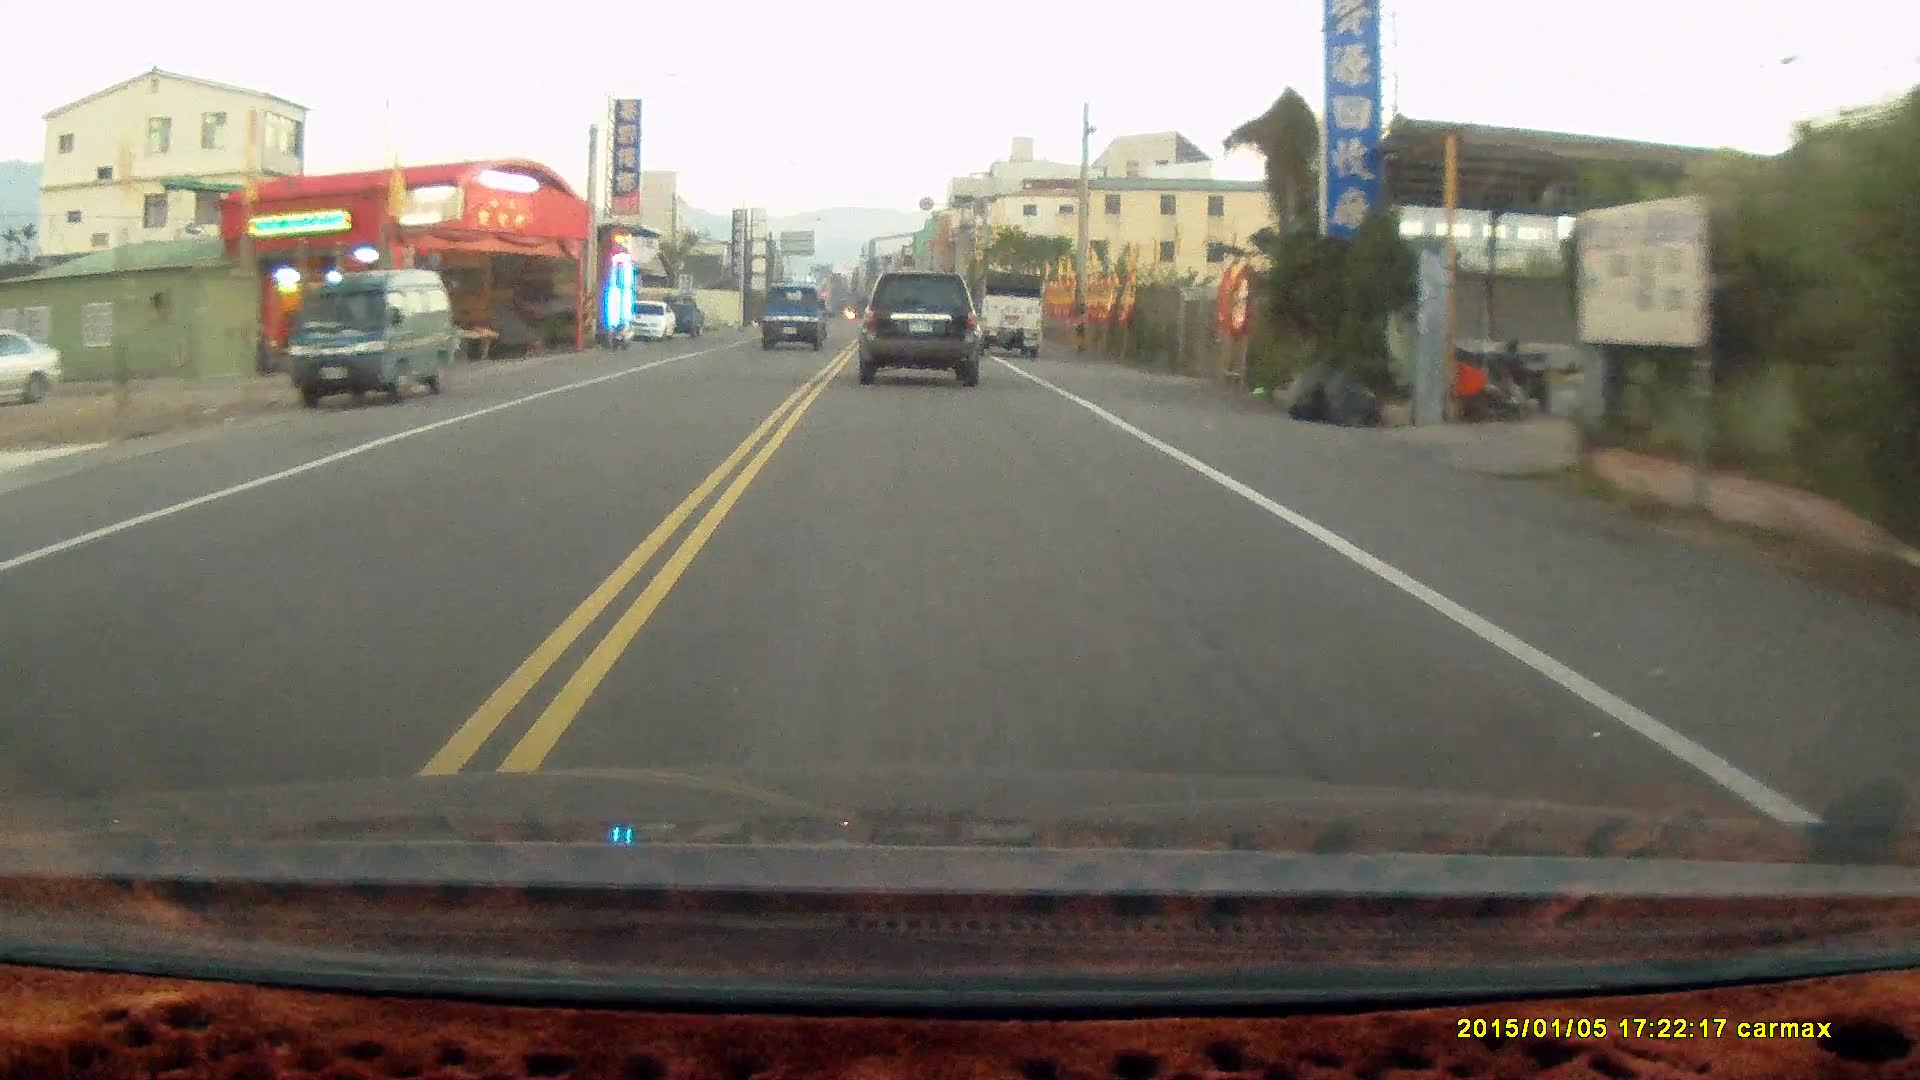vehicle: (286, 265, 460, 407), (861, 269, 982, 384), (955, 269, 1047, 359), (1, 316, 59, 407), (762, 284, 832, 353), (617, 301, 676, 343)
